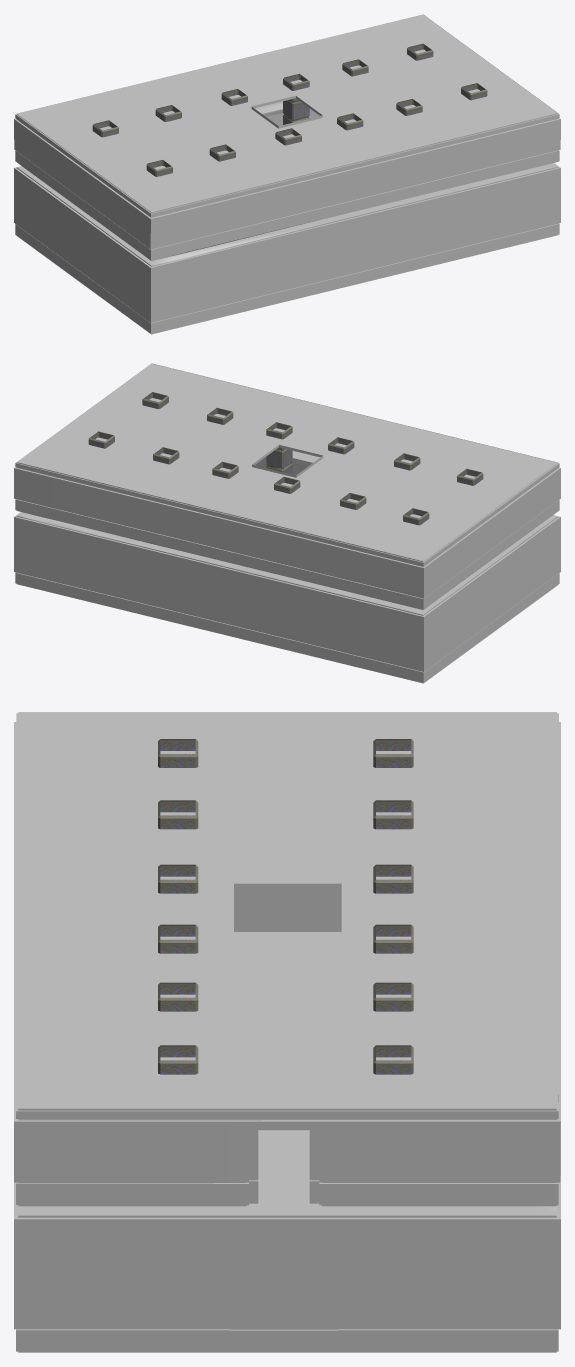
File: salle fin.FBX
3 views of the same model, one above another, from view 1: azimuth 30°, elevation 25°; view 2: azimuth 150°, elevation 25°; view 3: azimuth 270°, elevation 25° (orthographic). The views are drawn at different scales.
Visible parts, largest first — view 1: Object010, sol048, grand mur012, pillier116, Object009; view 2: Object009, sol048, grand mur012, pillier116, Object010; view 3: sol048, grand mur011, pillier116, mur050, grand mur012, sol049, Object010, Object009.
Part boxes in pixels (x1=…): Object010: x1=150, y1=113, x2=560, y2=334; sol048: x1=16, y1=14, x2=557, y2=212; grand mur012: x1=14, y1=114, x2=154, y2=333; pillier116: x1=92, y1=43, x2=487, y2=176; Object009: x1=14, y1=15, x2=420, y2=167; Object009: x1=14, y1=462, x2=423, y2=683; sol048: x1=17, y1=363, x2=557, y2=561; grand mur012: x1=420, y1=463, x2=560, y2=682; pillier116: x1=88, y1=392, x2=483, y2=525; Object010: x1=152, y1=363, x2=560, y2=516; sol048: x1=18, y1=712, x2=556, y2=1108; grand mur011: x1=14, y1=1108, x2=560, y2=1352; pillier116: x1=158, y1=739, x2=413, y2=1074; mur050: x1=230, y1=1121, x2=337, y2=1206; grand mur012: x1=14, y1=712, x2=560, y2=926; sol049: x1=258, y1=1132, x2=309, y2=1186; Object010: x1=14, y1=713, x2=39, y2=1330; Object009: x1=535, y1=713, x2=560, y2=1329.
Bounding box in the file's own units: 1756 × 526 × 1015.
